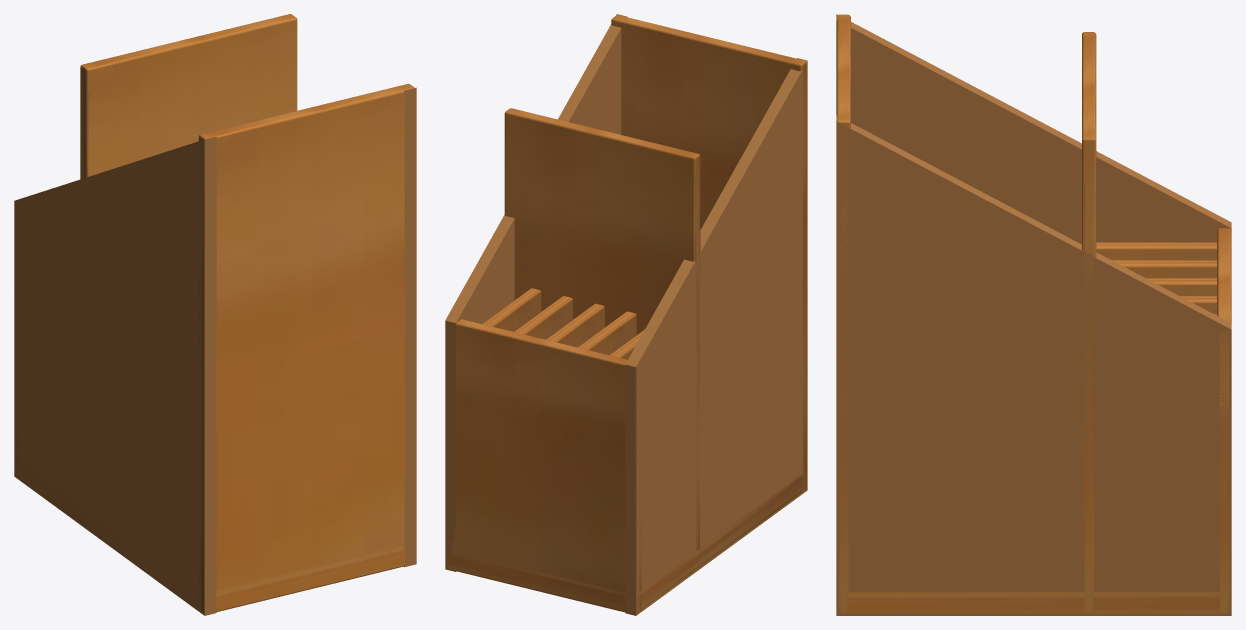
File: cutlery_utensils__knife_block.glb
3 views of the same model, side by side, from view 1: azimuth 30°, elevation 25°; view 2: azimuth 150°, elevation 25°; view 3: azimuth 270°, elevation 25° (orthographic). The views are drawn at different scales.
Parts seen in each view (by area): view 1: body; view 2: body; view 3: body.
Boxes of the visible parts, left/top/right/bottom form: body: left=14, top=14, right=416, bottom=615; body: left=445, top=14, right=807, bottom=615; body: left=836, top=14, right=1231, bottom=615.
Size of the model in its own units: 0.106 by 0.228 by 0.165.
Materials: 1 (1 with a texture image).
